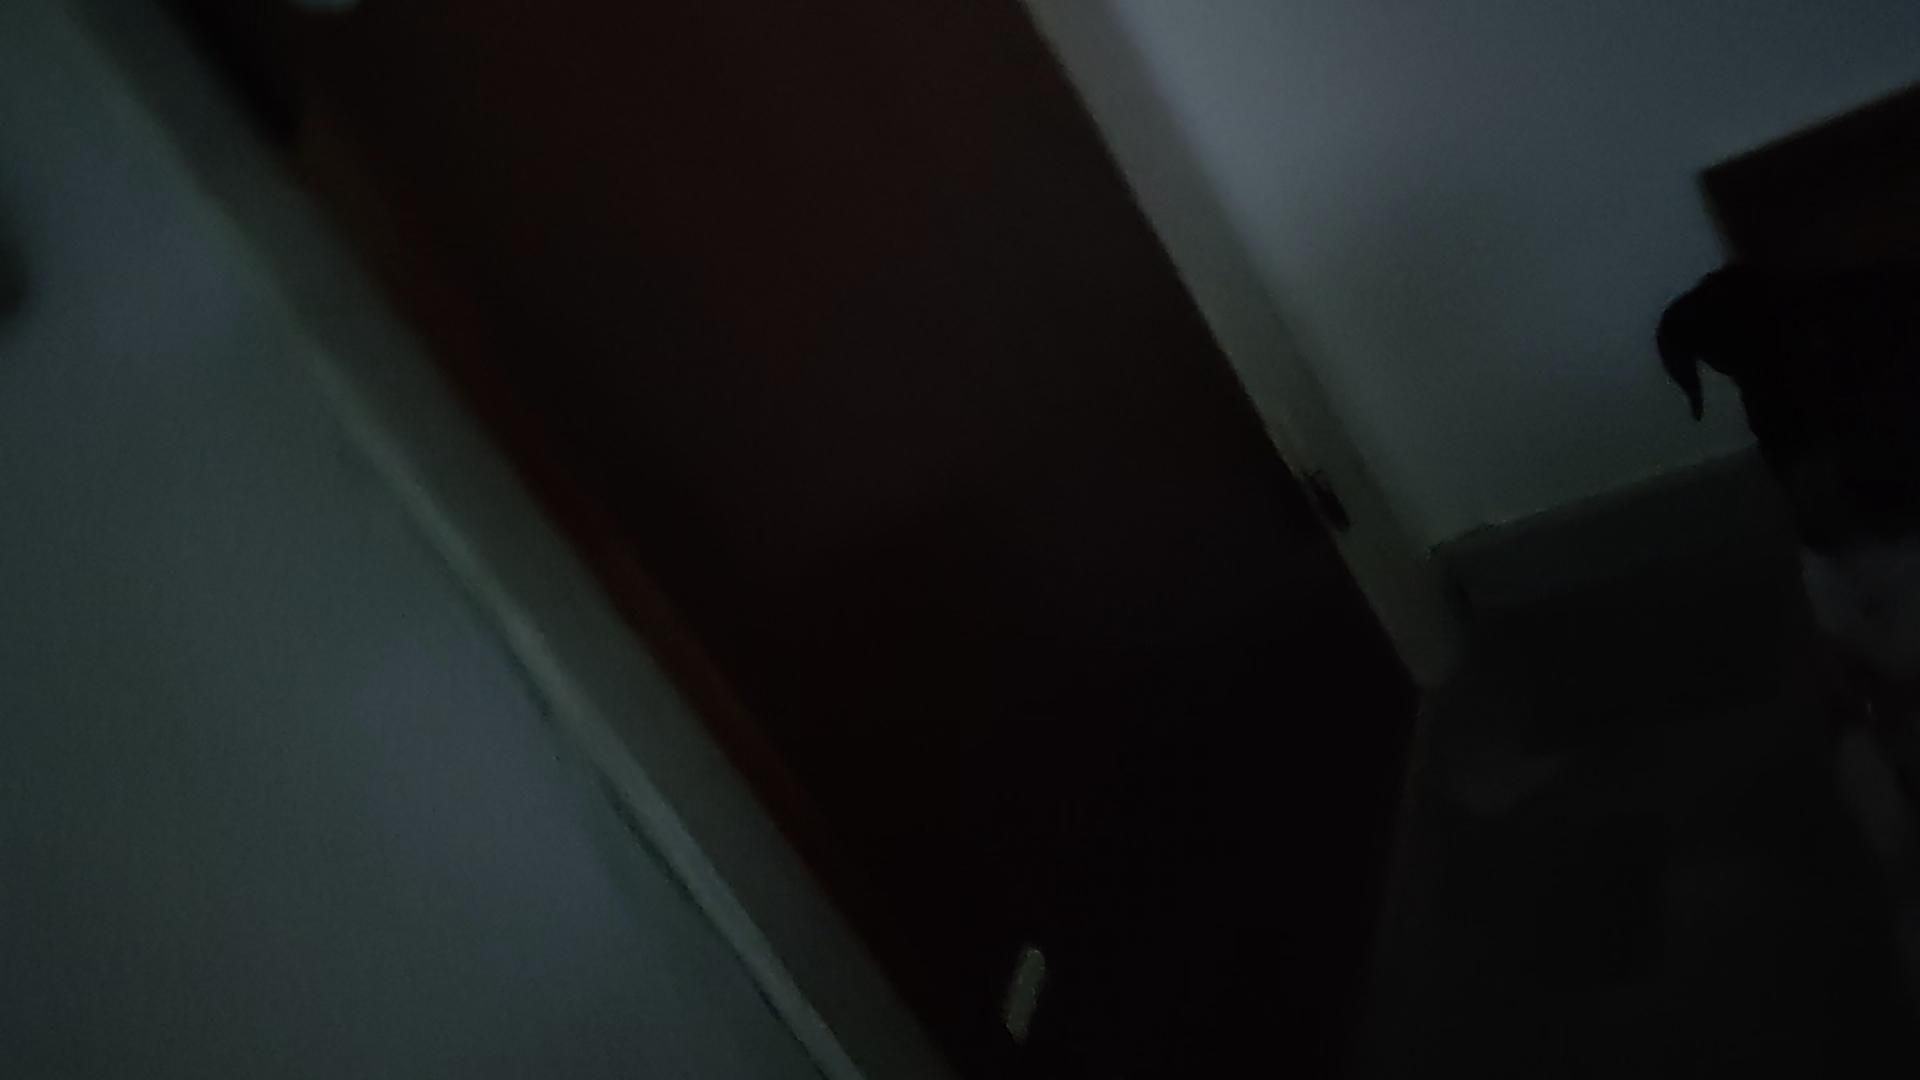Dog: (1634, 211, 1919, 885)
